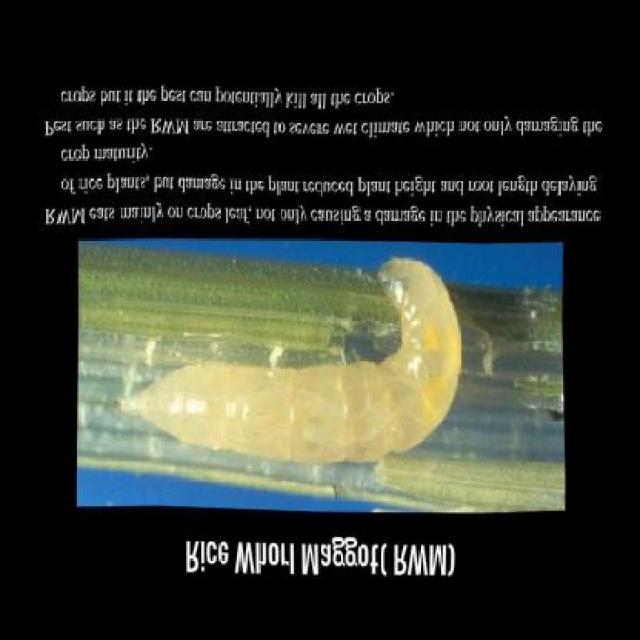whorl-maggot: (113, 253, 467, 472)
